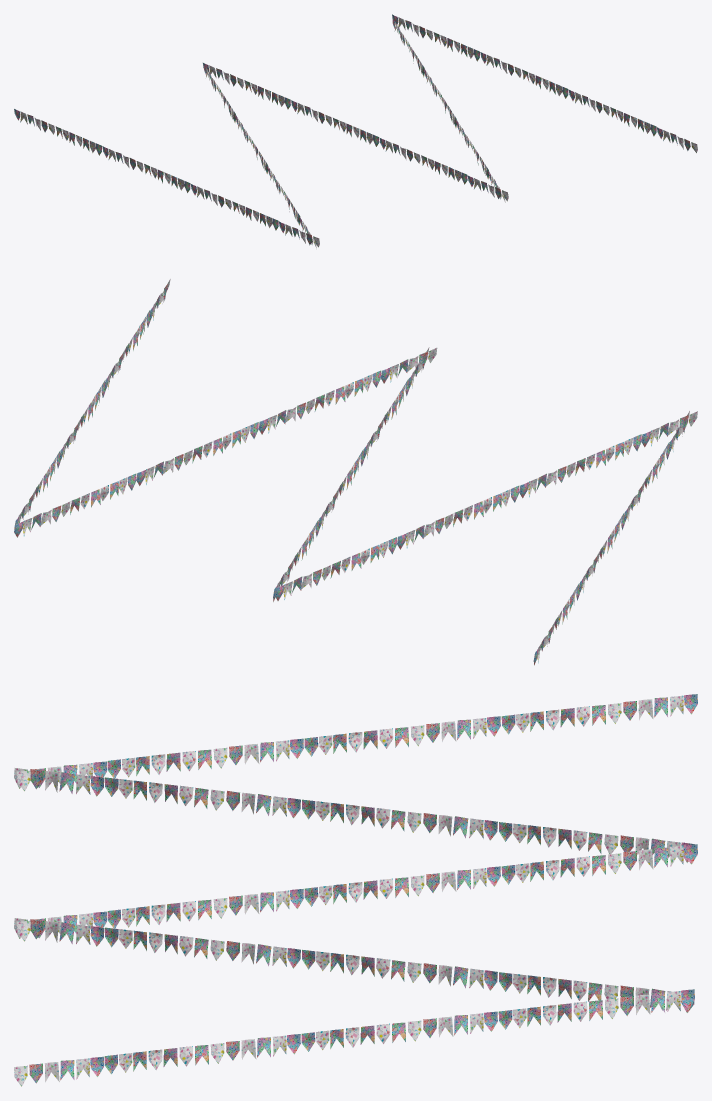
File: Flags.fbx
3 views of the same model, one above another, from view 1: azimuth 30°, elevation 25°; view 2: azimuth 150°, elevation 25°; view 3: azimuth 270°, elevation 25° (orthographic). The views are drawn at different scales.
Size of the model in its own units: 26832 by 844 by 20515.
